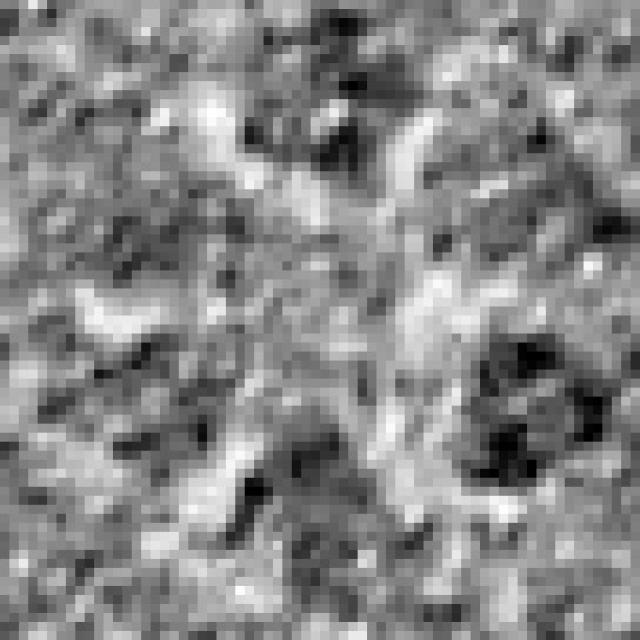inner: (219, 213, 443, 443)
lobe: (25, 110, 262, 302), (422, 70, 640, 271), (224, 430, 429, 619), (236, 4, 424, 188), (42, 336, 236, 485), (448, 332, 619, 492)
outer: (0, 0, 640, 640)
